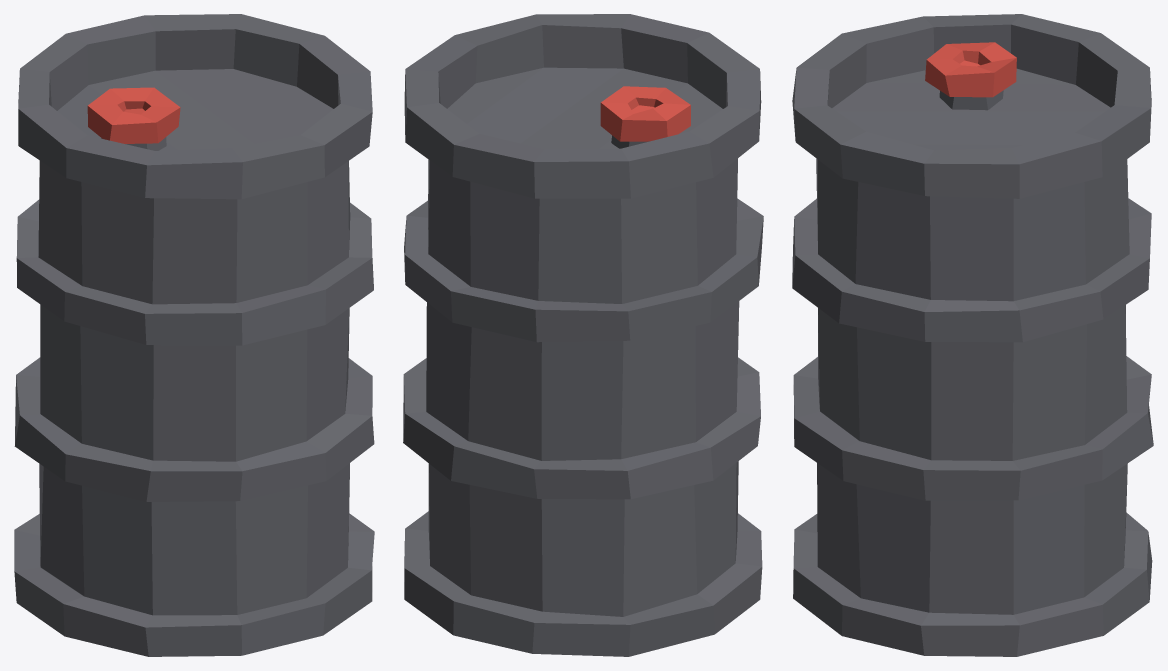
File: Barrel_2.fbx
3 views of the same model, side by side, from view 1: azimuth 30°, elevation 25°; view 2: azimuth 150°, elevation 25°; view 3: azimuth 270°, elevation 25° (orthographic).
Visible parts, largest first — view 1: Barrel_2; view 2: Barrel_2; view 3: Barrel_2.
Boxes of the visible parts, bbox=[...] form: Barrel_2: bbox=[14, 14, 374, 656]; Barrel_2: bbox=[403, 14, 763, 656]; Barrel_2: bbox=[792, 14, 1153, 656].
Bounding box in the file's own units: 23.23 × 35.35 × 23.28.
